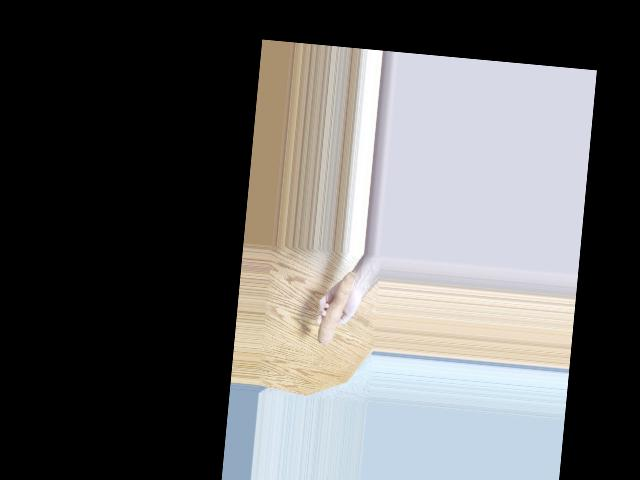sweet_potato: (312, 277, 350, 358)
